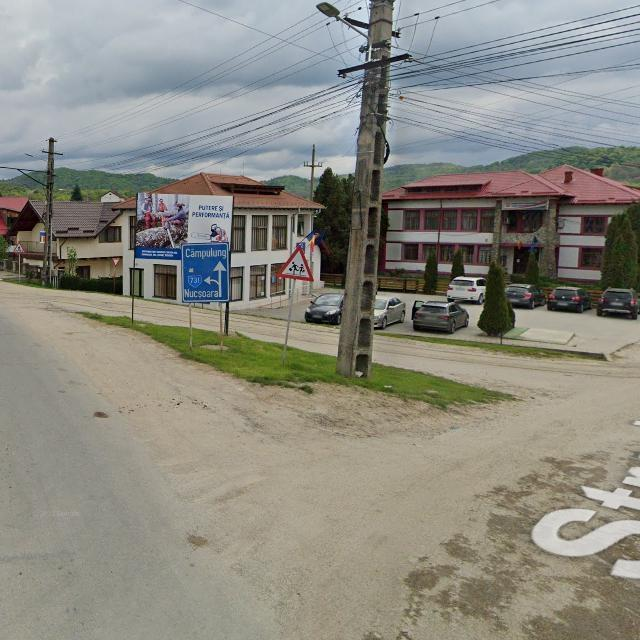prio_give_way: (111, 258, 120, 268)
warn_crosswalk: (13, 242, 26, 254)
